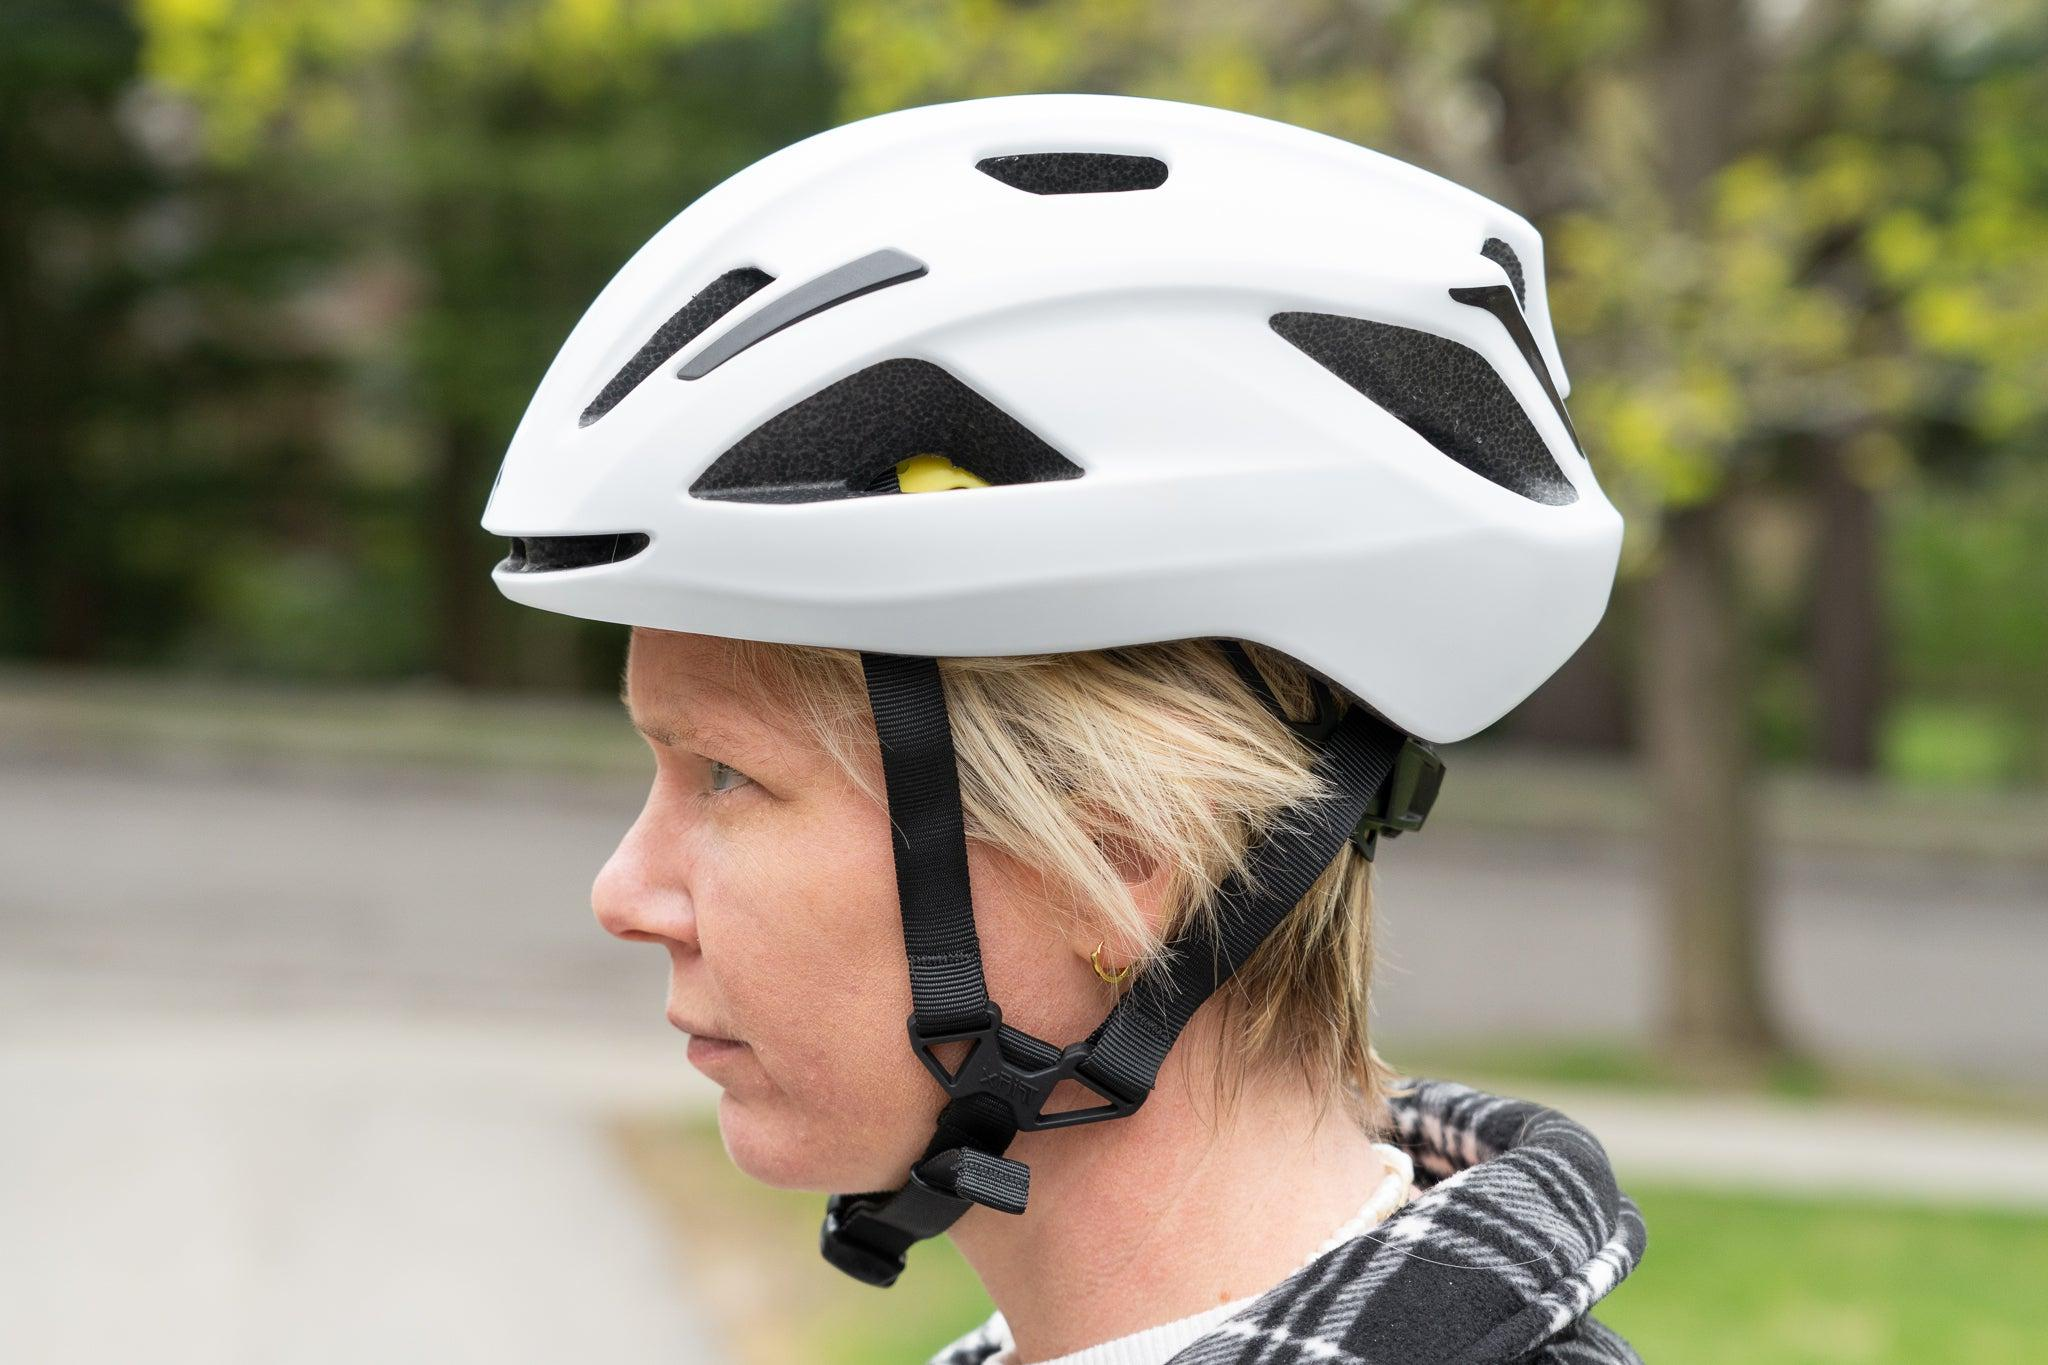Helmet: (480, 94, 1646, 1365)
